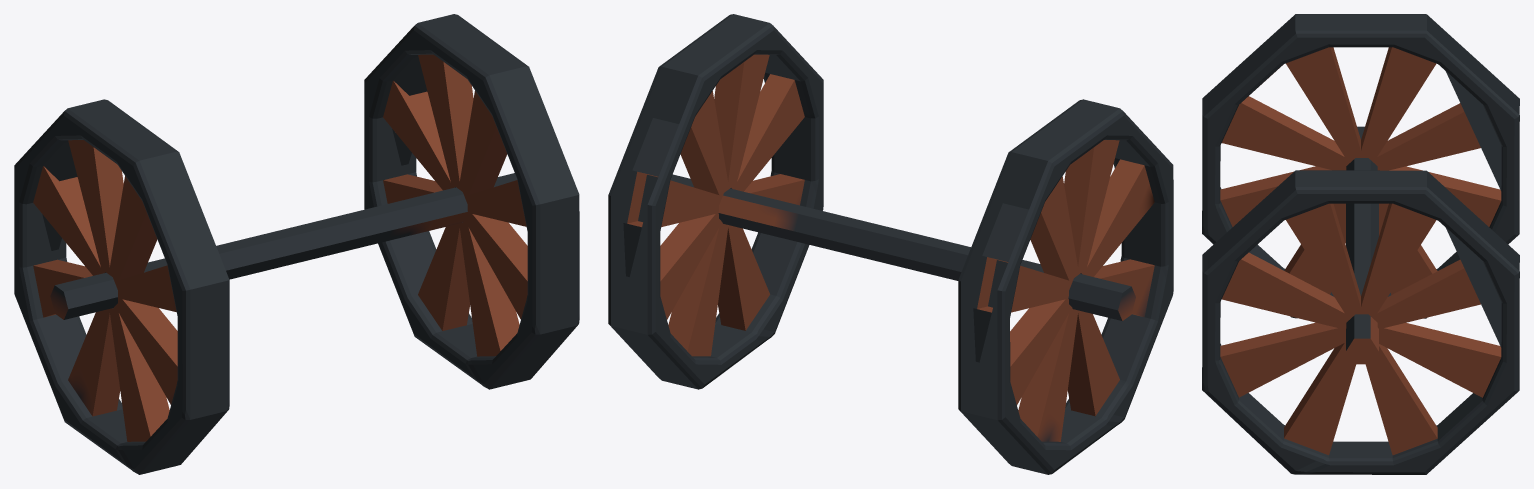
Rendered from Tower_1_Base.fbx.
3 renders of one model, left to right at view 1: azimuth 30°, elevation 25°; view 2: azimuth 150°, elevation 25°; view 3: azimuth 270°, elevation 25°, orthographic. The views are drawn at different scales.
Visible parts, largest first — view 1: Cylinder.002; view 2: Cylinder.002; view 3: Cylinder.002.
Part boxes in pixels (bbox=[...]): Cylinder.002: bbox=[14, 14, 579, 474]; Cylinder.002: bbox=[608, 14, 1173, 474]; Cylinder.002: bbox=[1202, 14, 1519, 474].
Size of the model in its own units: 401 by 254 by 254.
1 material, 1 textured.
